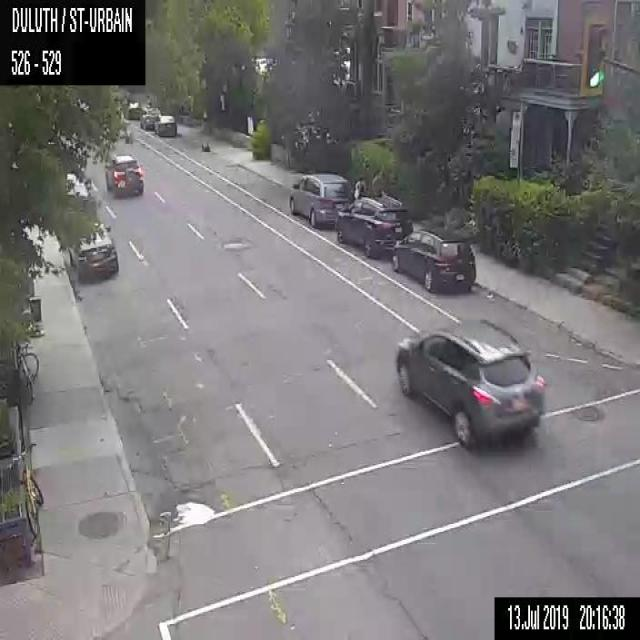pedestrian: (354, 174, 364, 197)
vehicle: (396, 328, 546, 448), (390, 226, 476, 292), (334, 195, 414, 257), (288, 173, 355, 230), (68, 220, 117, 280), (104, 153, 144, 196), (154, 115, 176, 136), (140, 110, 161, 130), (123, 100, 142, 119)
